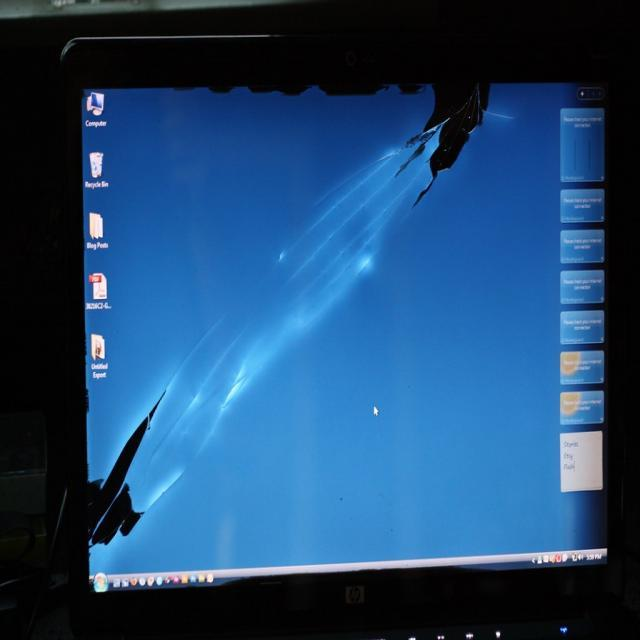Screen cracks: (86, 89, 540, 568)
